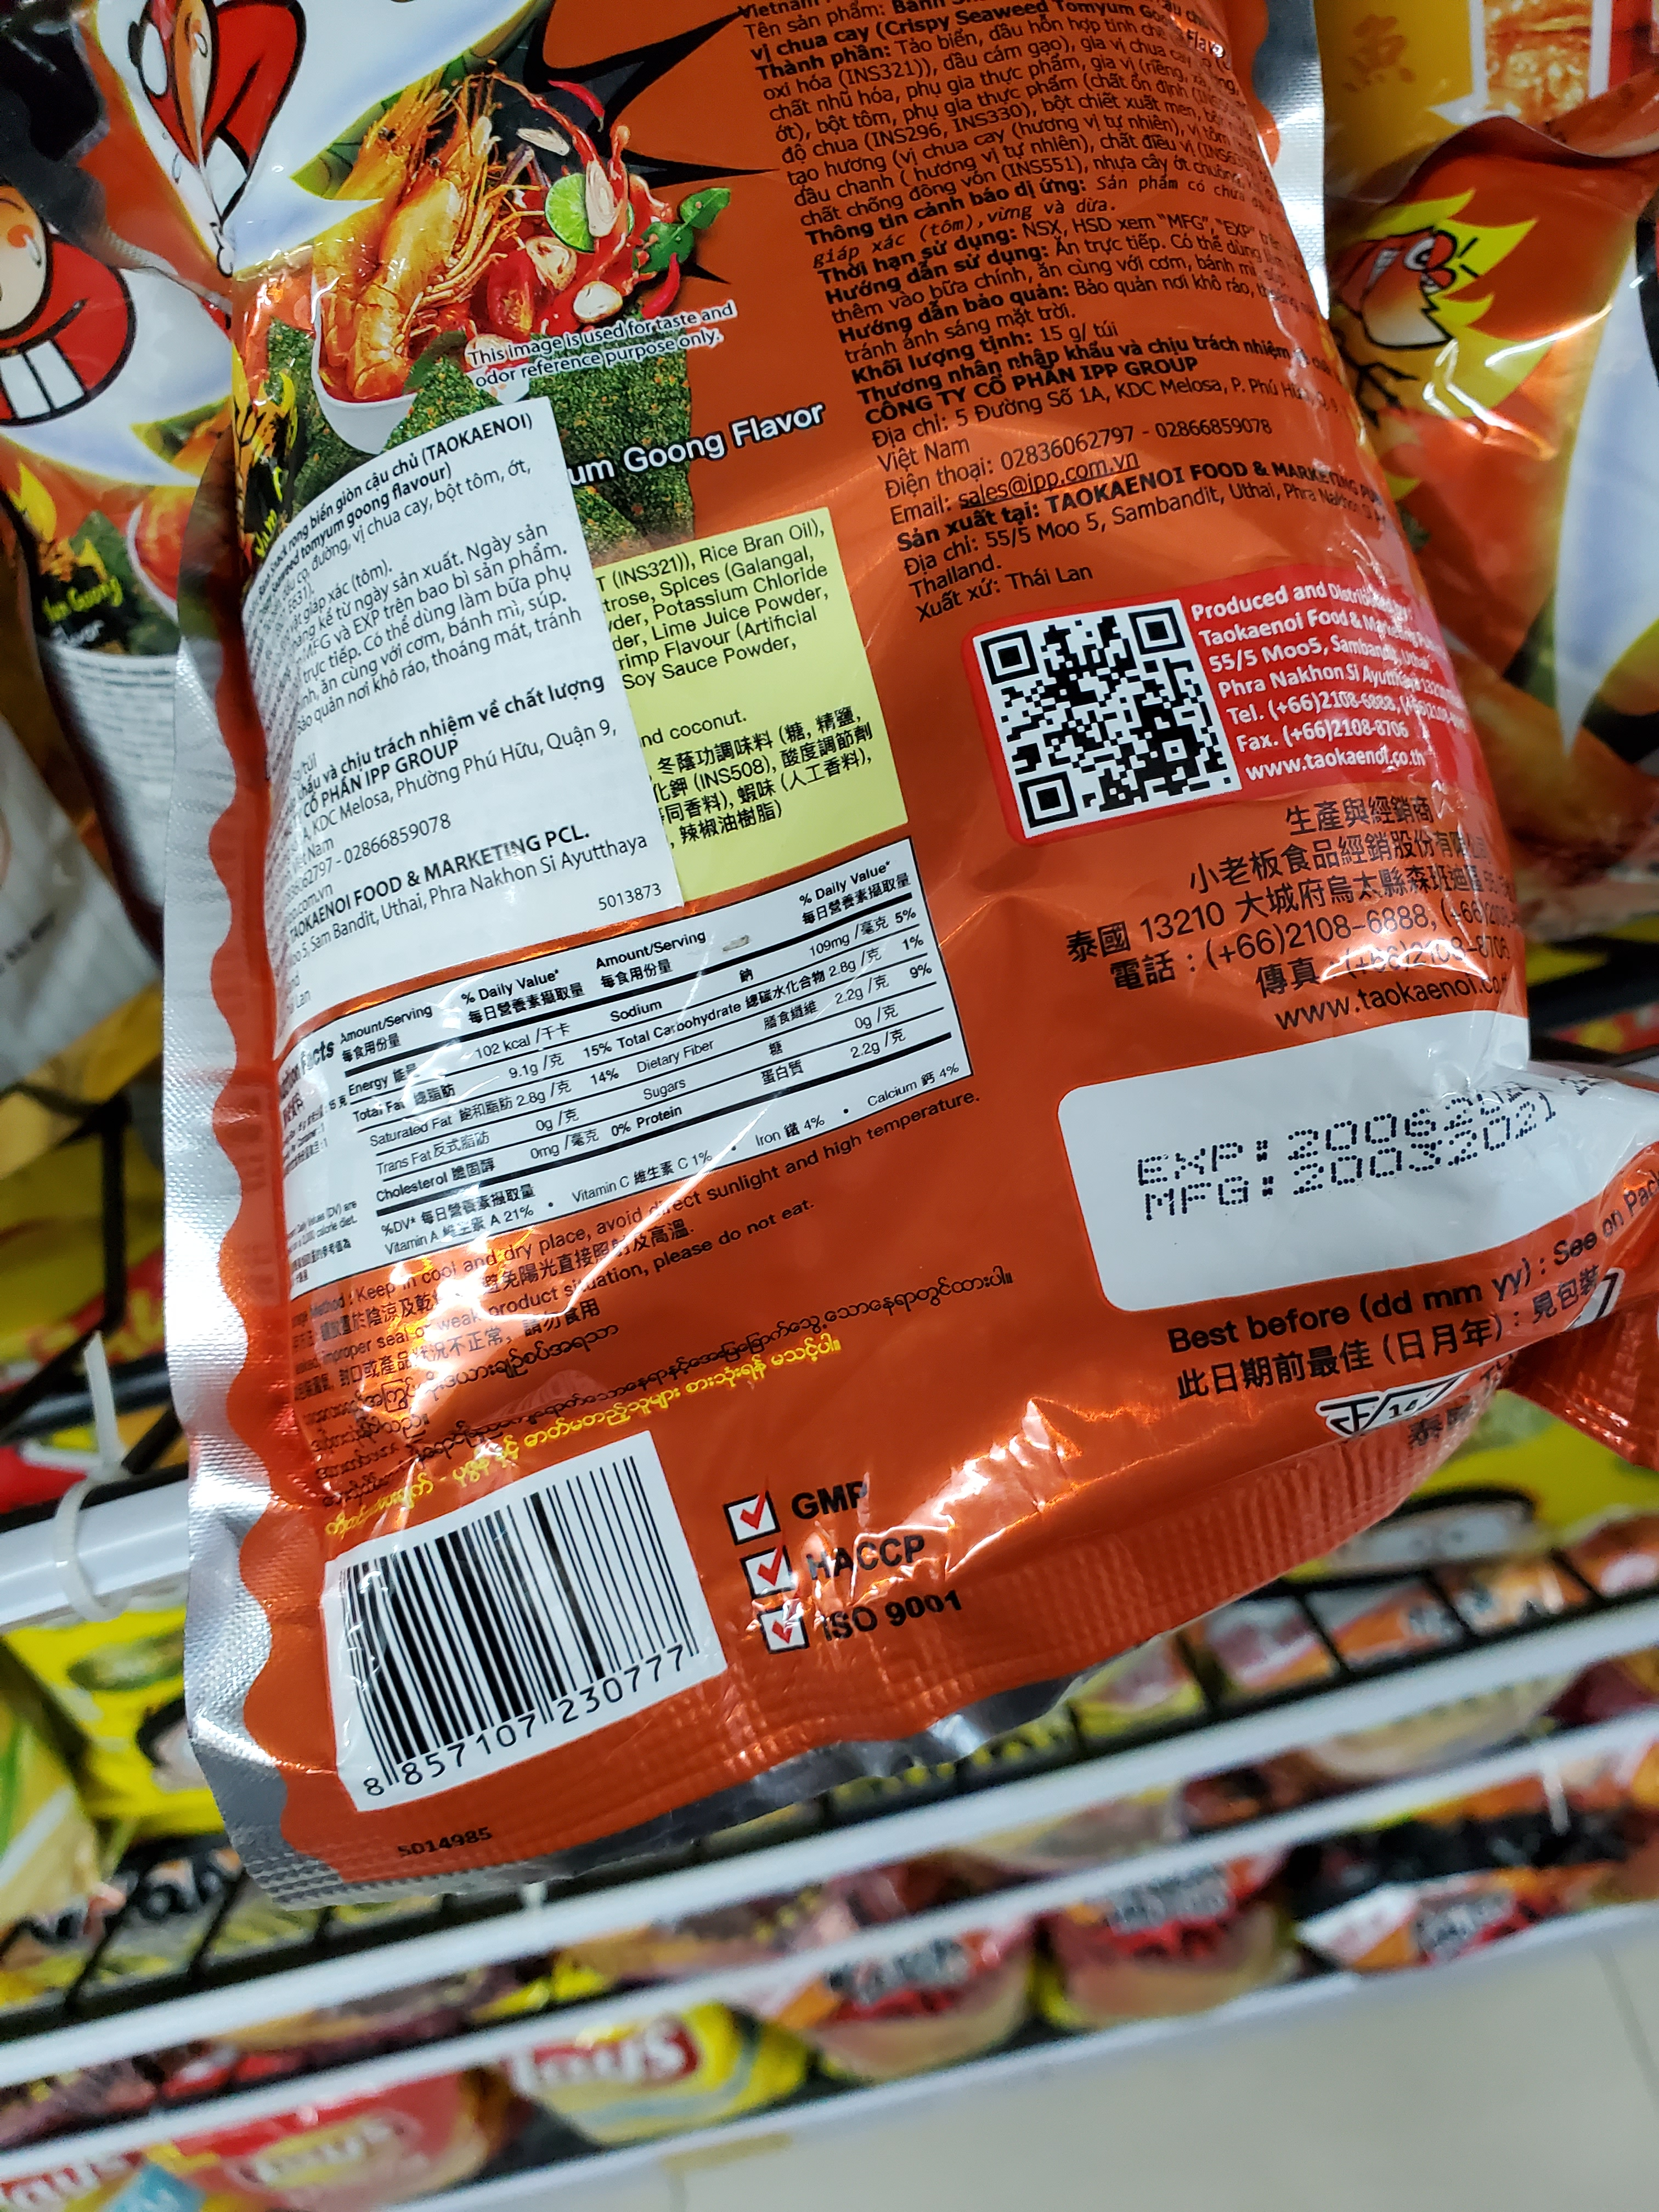barcode: (213, 1437, 730, 1811)
qr code: (953, 596, 1256, 843)
